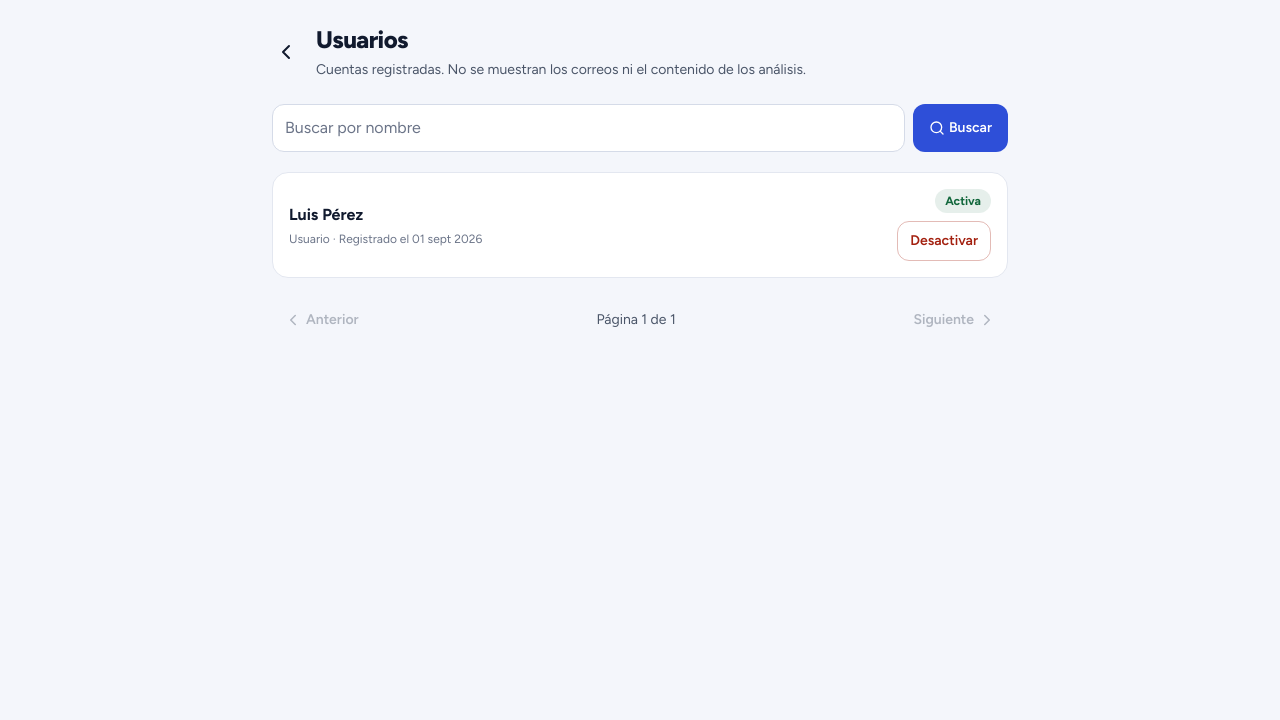
Scenario: AdminUsuarios › muestra el error del servidor dentro del diálogo
The image size is (1280, 720).
Step 1. Click the button with aria-label "Desactivar la cuenta de Luis Pérez" → (944, 241), box [897,221,991,261]
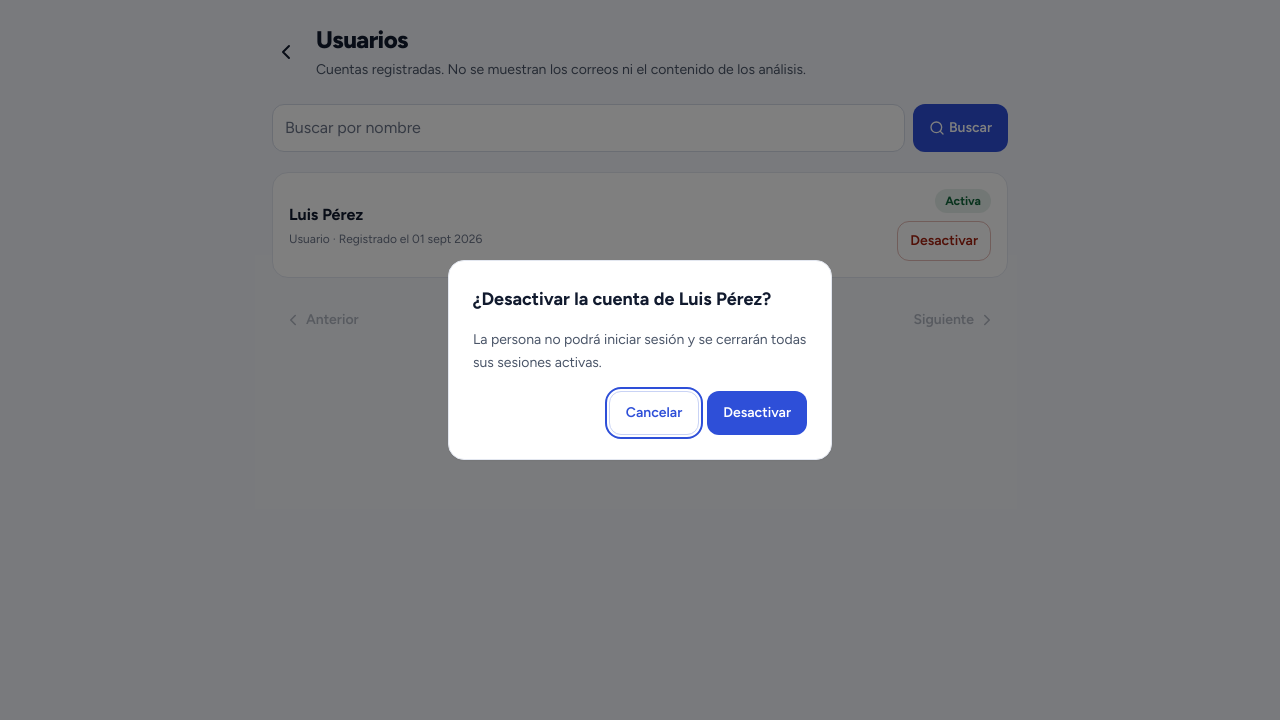
Step 2. Click the button "Desactivar" → (757, 413), box [707,391,807,435]
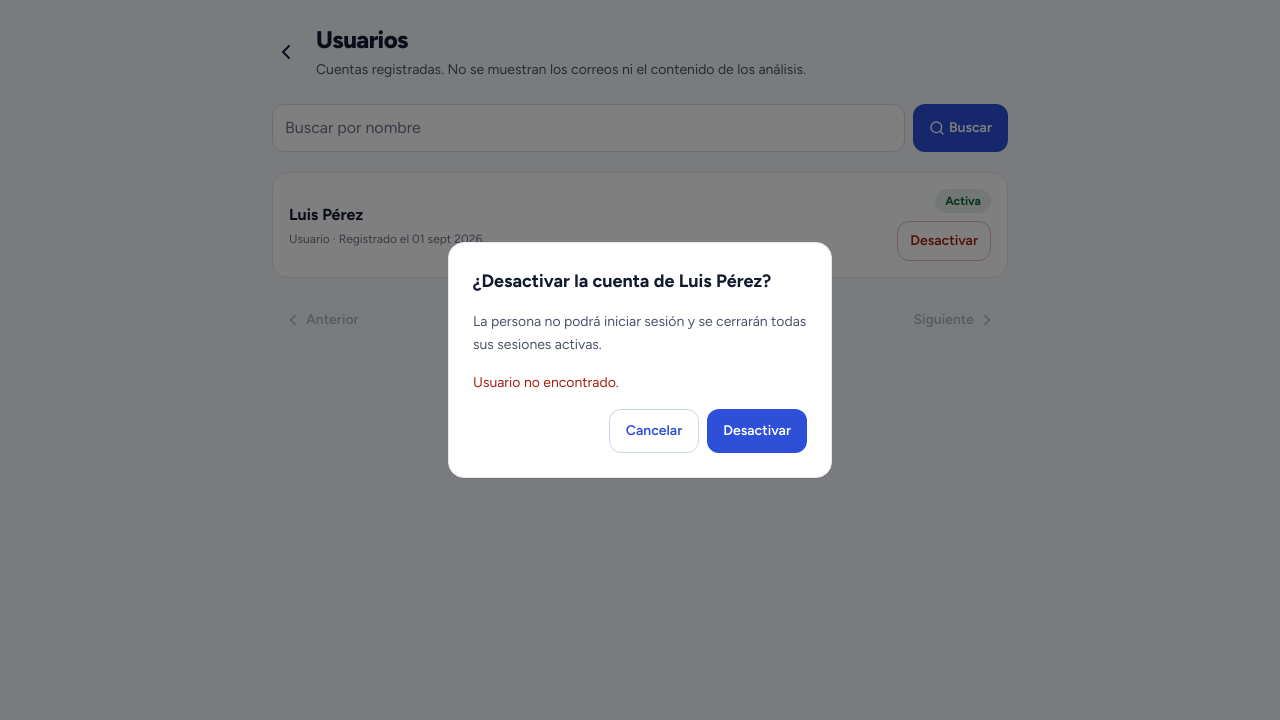
Check: the text "Usuario no encontrado." is shown, box [473,374,619,391]
